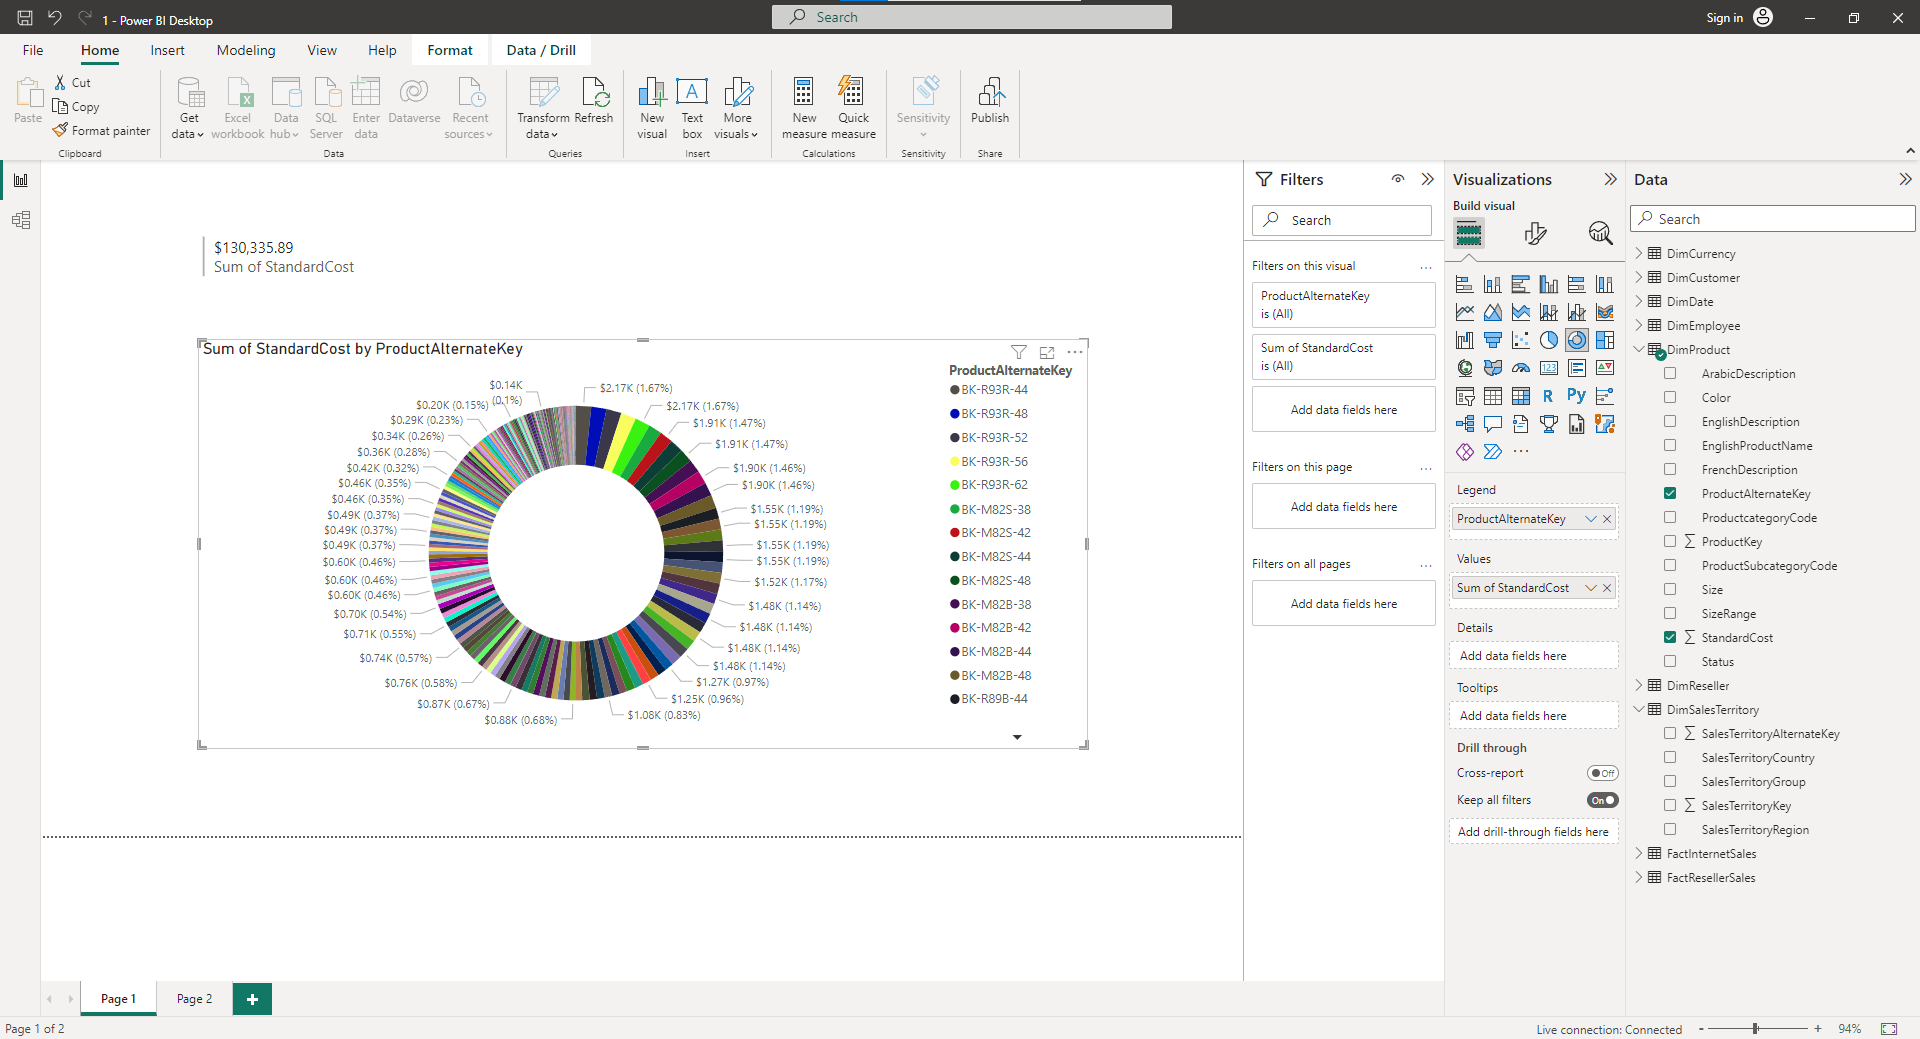

The dashboard page shown, as its layout file describes it:
{"tool":"powerbi","page":{"name":"Page 1","canvas":[1280,720],"ordinal":0},"visuals":[{"type":"multiRowCard","fields":{"Values":["Sum(DimProduct.StandardCost)"]},"box":[167.2,76.7,200.2,113.9],"z":0},{"type":"donutChart","fields":{"Y":["Sum(DimProduct.StandardCost)"],"Category":["DimProduct.ProductAlternateKey"]},"box":[167.2,190.6,947.8,436.6],"z":1}]}

Visuals, with their boxes on the page's 1280x720 design canvas (x1, y1, x2, y2). These are canvas units, not pixel positions in the 1920x1039 screenshot, which may show the page scaled, cropped or inside an application window:
multiRowCard - Sum(DimProduct.StandardCost): BBox(167, 77, 367, 191)
donutChart - Sum(DimProduct.StandardCost) x DimProduct.ProductAlternateKey: BBox(167, 191, 1115, 627)
